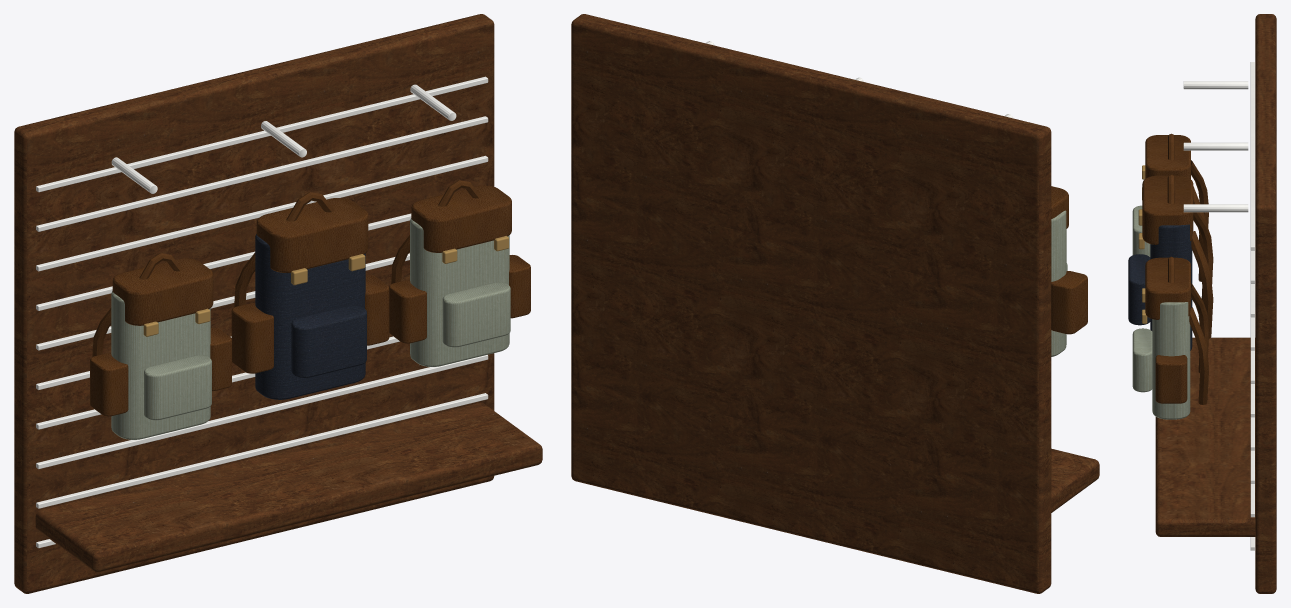
File: willow_backpack_display.glb
The picture shows the model from 3 angles, left to right: view 1: azimuth 30°, elevation 25°; view 2: azimuth 150°, elevation 25°; view 3: azimuth 270°, elevation 25°; orthographic projection. The views are drawn at different scales.
Visible parts, largest first — view 1: willow_backpack_display_willow_dark_oak_pbr, willow_backpack_display_willow_worn_oak_pbr, willow_backpack_display_willow_brown_leather_pbr, willow_backpack_display_willow_blackened_steel_pbr, willow_backpack_display_willow_dark_denim_pbr, willow_backpack_display_willow_forest_corduroy_pbr, willow_backpack_display_willow_rust_corduroy_pbr, willow_backpack_display_willow_aged_brass_pbr; view 2: willow_backpack_display_willow_dark_oak_pbr, willow_backpack_display_willow_brown_leather_pbr, willow_backpack_display_willow_worn_oak_pbr, willow_backpack_display_willow_forest_corduroy_pbr; view 3: willow_backpack_display_willow_worn_oak_pbr, willow_backpack_display_willow_dark_oak_pbr, willow_backpack_display_willow_brown_leather_pbr, willow_backpack_display_willow_rust_corduroy_pbr, willow_backpack_display_willow_blackened_steel_pbr, willow_backpack_display_willow_dark_denim_pbr, willow_backpack_display_willow_forest_corduroy_pbr, willow_backpack_display_willow_aged_brass_pbr.
Boxes of the visible parts, left/top/right/bottom form: willow_backpack_display_willow_dark_oak_pbr: left=14, top=14, right=494, bottom=593; willow_backpack_display_willow_worn_oak_pbr: left=35, top=402, right=542, bottom=572; willow_backpack_display_willow_brown_leather_pbr: left=90, top=180, right=530, bottom=416; willow_backpack_display_willow_blackened_steel_pbr: left=36, top=76, right=488, bottom=548; willow_backpack_display_willow_dark_denim_pbr: left=255, top=234, right=366, bottom=399; willow_backpack_display_willow_forest_corduroy_pbr: left=111, top=291, right=211, bottom=439; willow_backpack_display_willow_rust_corduroy_pbr: left=410, top=218, right=510, bottom=366; willow_backpack_display_willow_aged_brass_pbr: left=143, top=236, right=508, bottom=336; willow_backpack_display_willow_dark_oak_pbr: left=571, top=14, right=1051, bottom=593; willow_backpack_display_willow_brown_leather_pbr: left=1051, top=186, right=1087, bottom=334; willow_backpack_display_willow_worn_oak_pbr: left=1051, top=448, right=1099, bottom=512; willow_backpack_display_willow_forest_corduroy_pbr: left=1051, top=210, right=1067, bottom=356; willow_backpack_display_willow_worn_oak_pbr: left=1155, top=337, right=1255, bottom=536; willow_backpack_display_willow_dark_oak_pbr: left=1255, top=14, right=1276, bottom=593; willow_backpack_display_willow_brown_leather_pbr: left=1142, top=133, right=1213, bottom=404; willow_backpack_display_willow_rust_corduroy_pbr: left=1132, top=302, right=1190, bottom=419; willow_backpack_display_willow_blackened_steel_pbr: left=1183, top=62, right=1254, bottom=550; willow_backpack_display_willow_dark_denim_pbr: left=1128, top=224, right=1192, bottom=350; willow_backpack_display_willow_forest_corduroy_pbr: left=1132, top=205, right=1150, bottom=256; willow_backpack_display_willow_aged_brass_pbr: left=1138, top=165, right=1147, bottom=323.
Bounding box in the file's own units: 2.62 × 2.45 × 0.845.
Materials: 8 (7 with a texture image).
